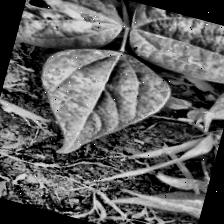ALS: (25, 36, 178, 177), (117, 1, 224, 85), (15, 0, 132, 66)
